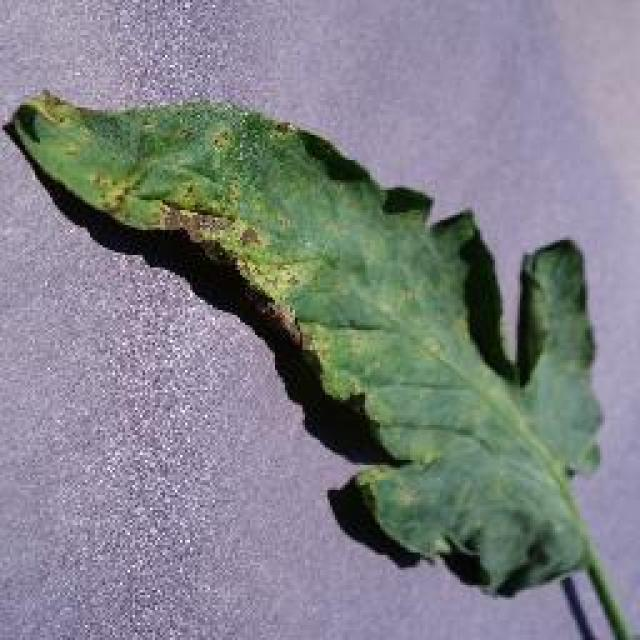Tomato target spot leaf: (4, 90, 606, 598)
